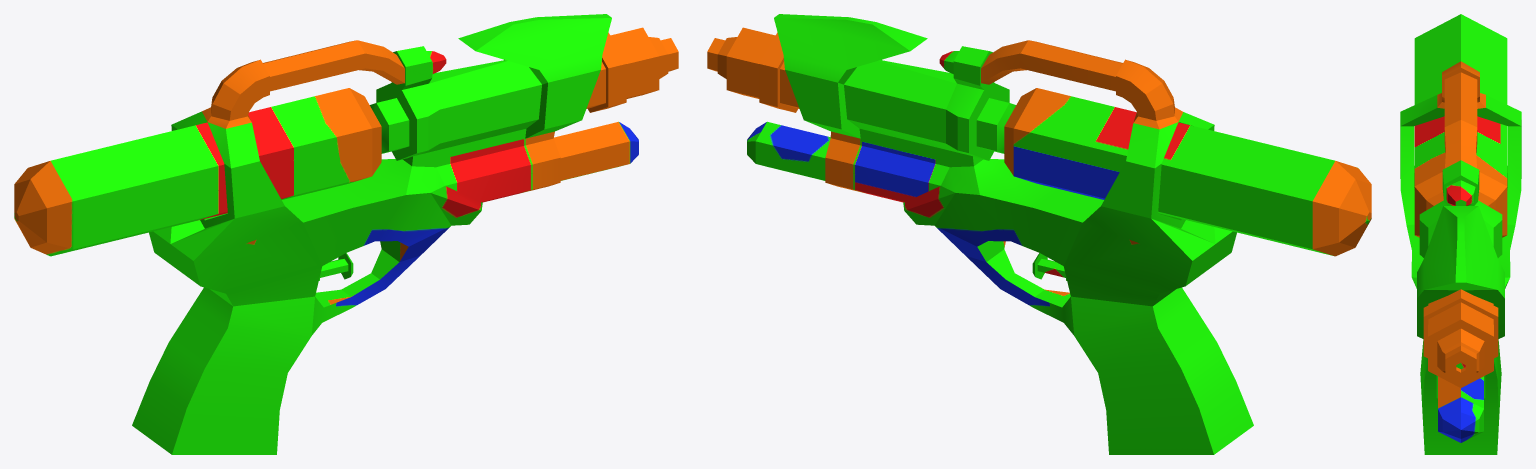
File: WaterGun.fbx
3 renders of one model, left to right at view 1: azimuth 30°, elevation 25°; view 2: azimuth 150°, elevation 25°; view 3: azimuth 270°, elevation 25°, orthographic.
Parts seen in each view (by area): view 1: WaterGun; view 2: WaterGun; view 3: WaterGun.
Boxes of the visible parts, x1,y1,x2,y2 form: WaterGun: (14, 14, 678, 454); WaterGun: (707, 14, 1371, 454); WaterGun: (1400, 14, 1521, 454).
Bounding box in the file's own units: 25.17 × 14.03 × 3.98.
